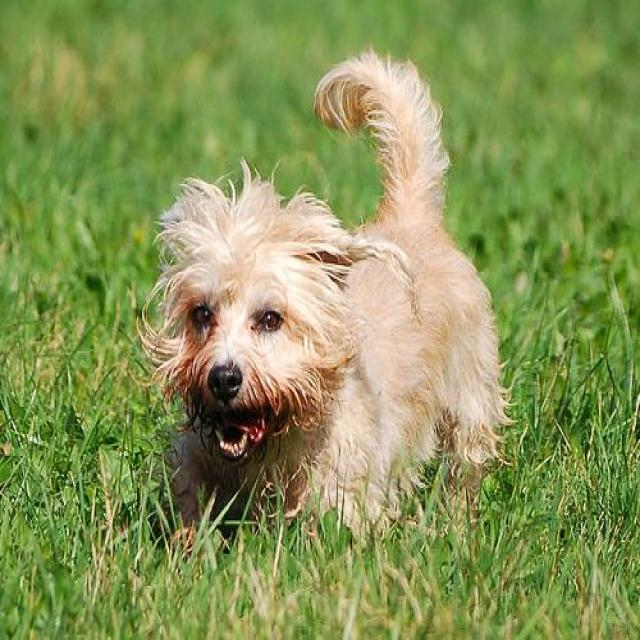happy: (128, 10, 521, 541)
